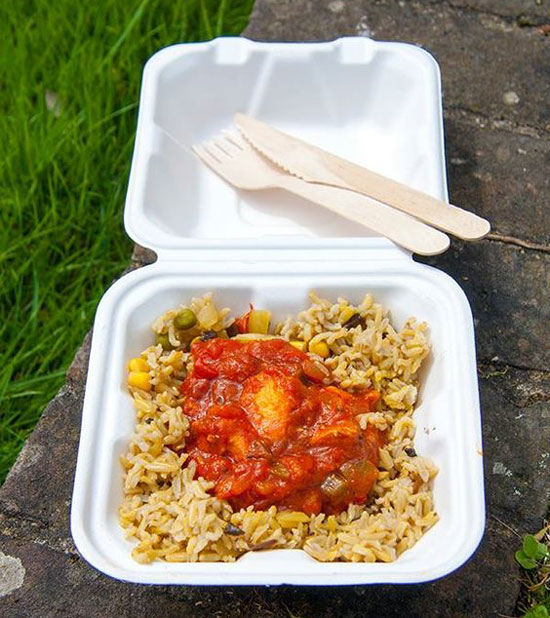Foam Box: (63, 23, 497, 598)
